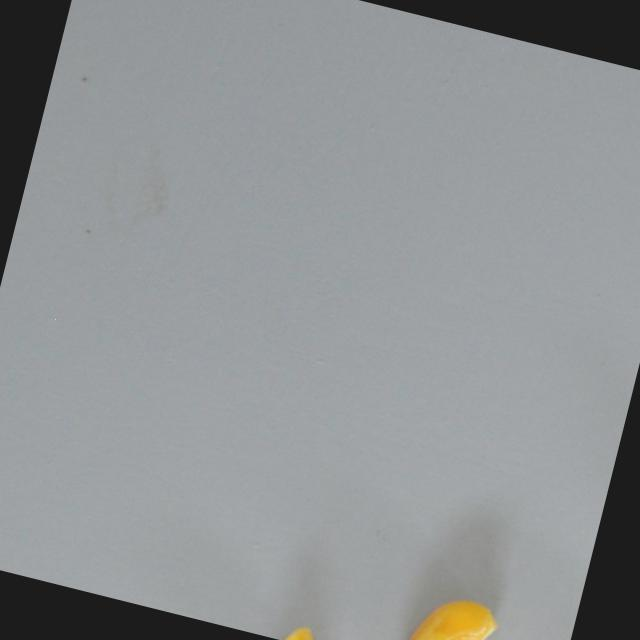pelicula: (397, 582, 504, 640), (274, 616, 350, 640)
